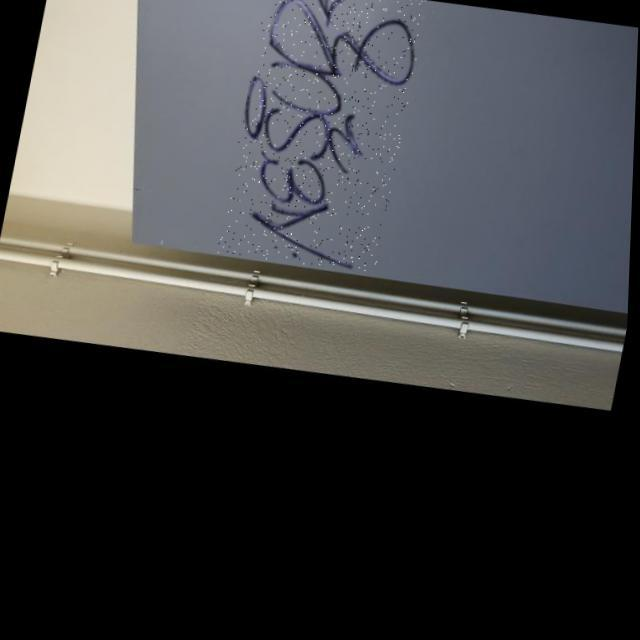-: (218, 0, 428, 280)
